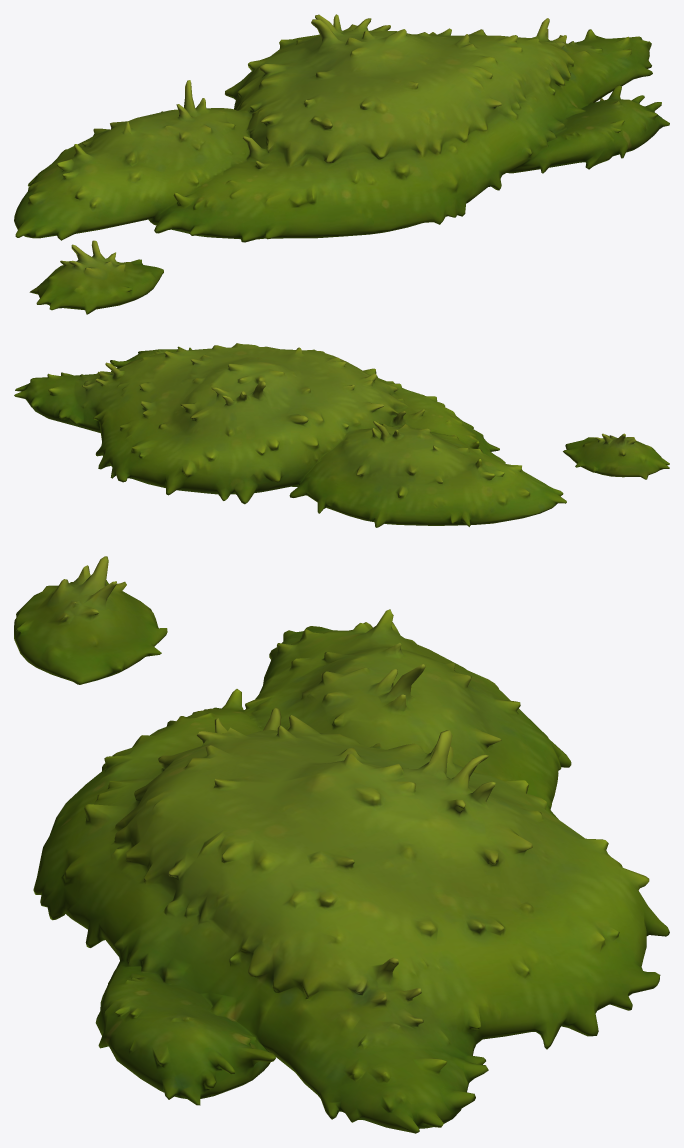
The model's file is bog_moss_c.glb.
3 views of the same model, one above another, from view 1: azimuth 30°, elevation 25°; view 2: azimuth 150°, elevation 25°; view 3: azimuth 270°, elevation 25° (orthographic). The views are drawn at different scales.
Parts seen in each view (by area): view 1: SM_XBOG_DRS_MossPatch_01C; view 2: SM_XBOG_DRS_MossPatch_01C; view 3: SM_XBOG_DRS_MossPatch_01C.
Part boxes in pixels (bbox=[...]): SM_XBOG_DRS_MossPatch_01C: bbox=[14, 14, 669, 314]; SM_XBOG_DRS_MossPatch_01C: bbox=[14, 343, 669, 527]; SM_XBOG_DRS_MossPatch_01C: bbox=[14, 556, 669, 1133].
Size of the model in its own units: 3.49 by 0.5533 by 1.75.
1 material, 1 textured.
